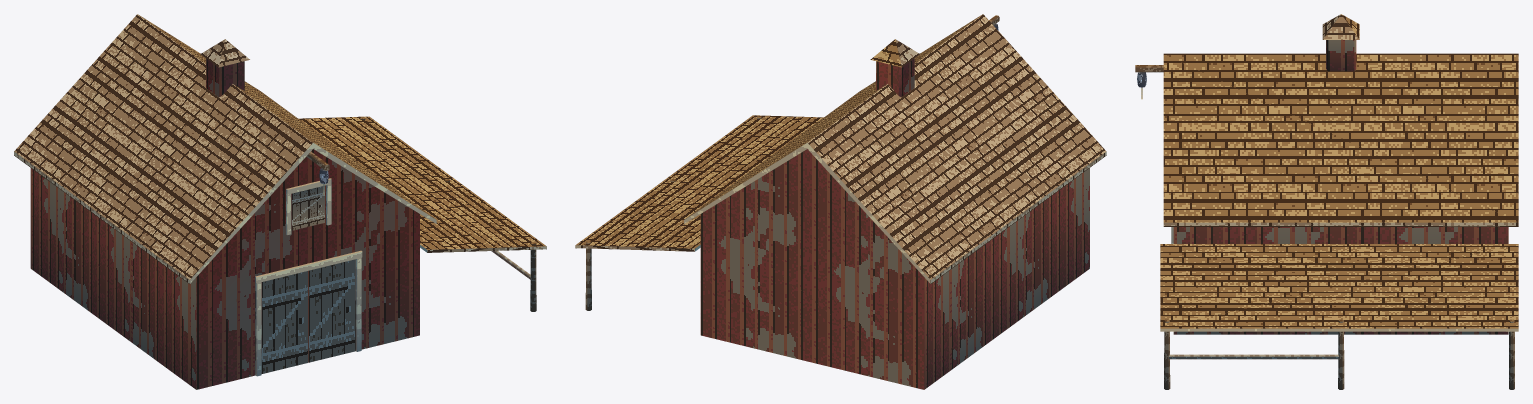
File: wtown.stable__wide.glb
The picture shows the model from 3 angles, left to right: view 1: azimuth 30°, elevation 25°; view 2: azimuth 150°, elevation 25°; view 3: azimuth 270°, elevation 25°; orthographic projection.
Parts seen in each view (by area): view 1: kit_roof, kit_body, kit_lean_to, kit_card_panes, kit_trim, kit_cupola, kit_cupola_cap; view 2: kit_body, kit_roof, kit_lean_to, kit_cupola, kit_cupola_cap; view 3: kit_roof, kit_lean_to, kit_body, kit_lean_rail, kit_cupola, kit_cupola_cap, kit_hoist.
Part boxes in pixels (bbox=[...]): kit_roof: bbox=[14, 14, 436, 283]; kit_body: bbox=[30, 149, 419, 389]; kit_lean_to: bbox=[299, 116, 546, 311]; kit_card_panes: bbox=[262, 186, 354, 373]; kit_trim: bbox=[255, 178, 362, 376]; kit_cupola: bbox=[206, 58, 244, 97]; kit_cupola_cap: bbox=[200, 39, 249, 67]; kit_body: bbox=[700, 149, 1089, 389]; kit_roof: bbox=[684, 14, 1106, 283]; kit_lean_to: bbox=[575, 115, 823, 310]; kit_cupola: bbox=[876, 58, 914, 97]; kit_cupola_cap: bbox=[870, 39, 919, 67]; kit_roof: bbox=[1163, 53, 1518, 226]; kit_lean_to: bbox=[1160, 244, 1518, 389]; kit_body: bbox=[1173, 227, 1508, 334]; kit_lean_rail: bbox=[1169, 354, 1339, 359]; kit_cupola: bbox=[1326, 40, 1356, 71]; kit_cupola_cap: bbox=[1322, 14, 1359, 39]; kit_hoist: bbox=[1135, 65, 1163, 87].
Size of the model in its own units: 12.37 by 8.75 by 11.45.
9 materials, 9 textured.
